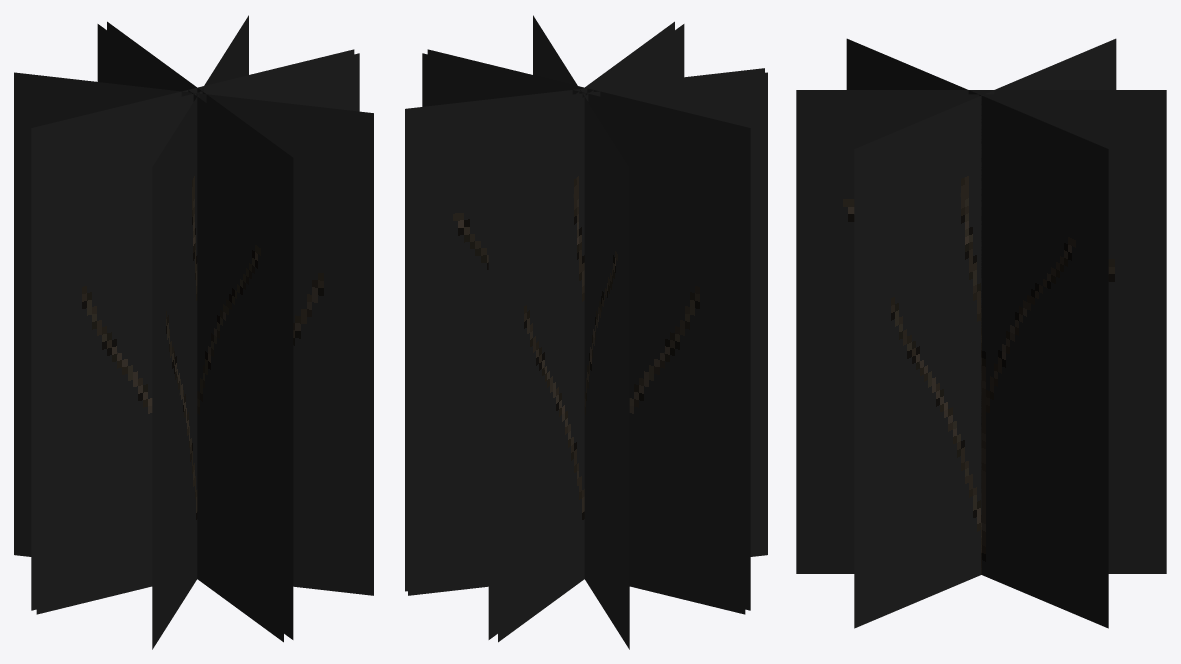
Rendered from bush01_winter.glb.
3 renders of one model, left to right at view 1: azimuth 30°, elevation 25°; view 2: azimuth 150°, elevation 25°; view 3: azimuth 270°, elevation 25°, orthographic.
Visible parts, largest first — view 1: bush01; view 2: bush01; view 3: bush01.
Boxes of the visible parts, bbox=[...] form: bush01: bbox=[14, 15, 373, 649]; bush01: bbox=[405, 15, 767, 649]; bush01: bbox=[796, 38, 1166, 628].
Bounding box in the file's own units: 1.05 × 1.5 × 1.05.
1 material, 1 textured.
